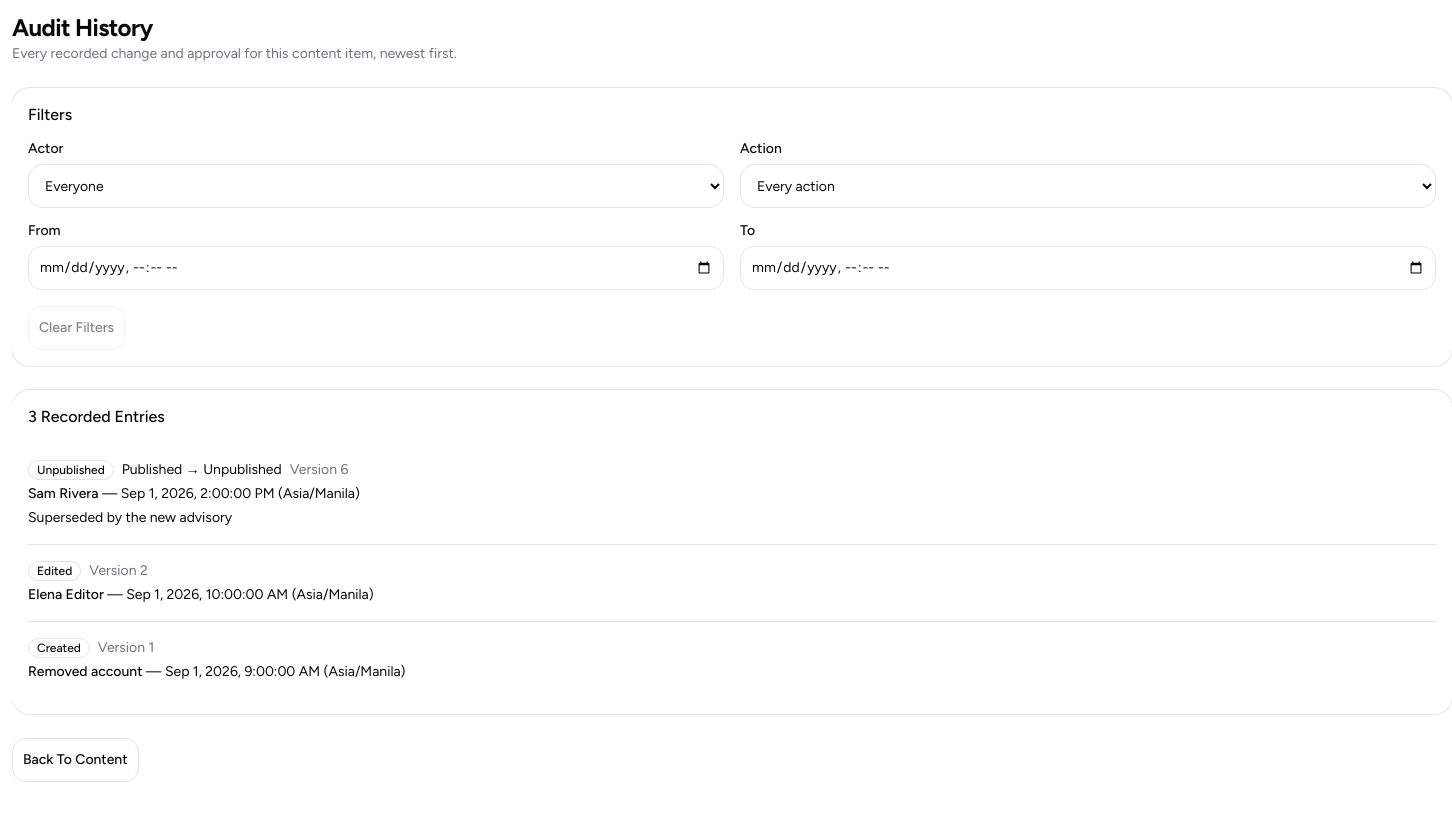
Test: ContentAuditView › refuses an inverted range and does not query with it
This screenshot has width=1452, height=822.
Type "2026-09-05T00:00" into the field labelled "From" at (376,268), box [28,246,724,290]
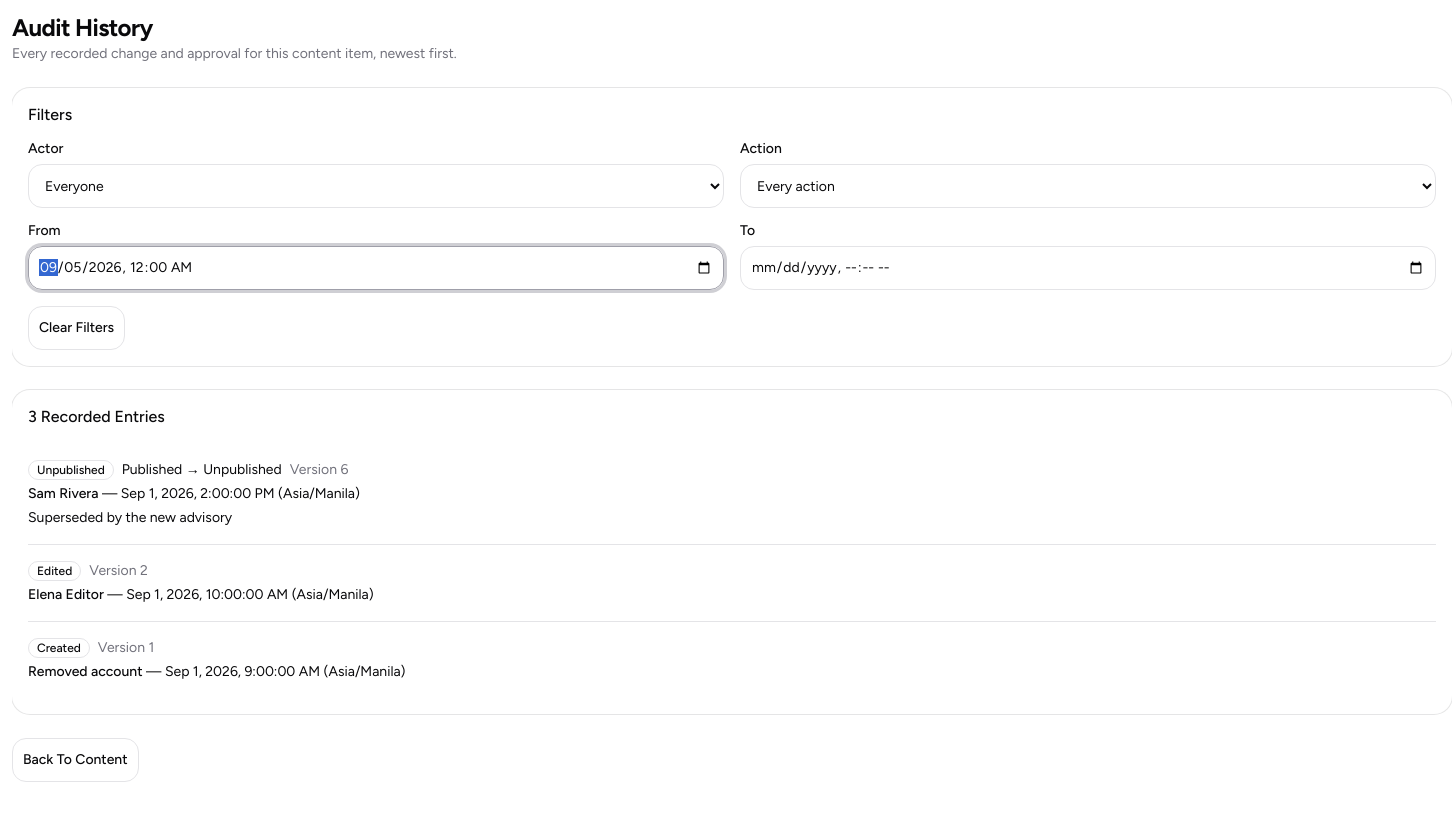
Type "2026-09-01T00:00" into the field labelled "To" at (1088,268), box [740,246,1436,290]
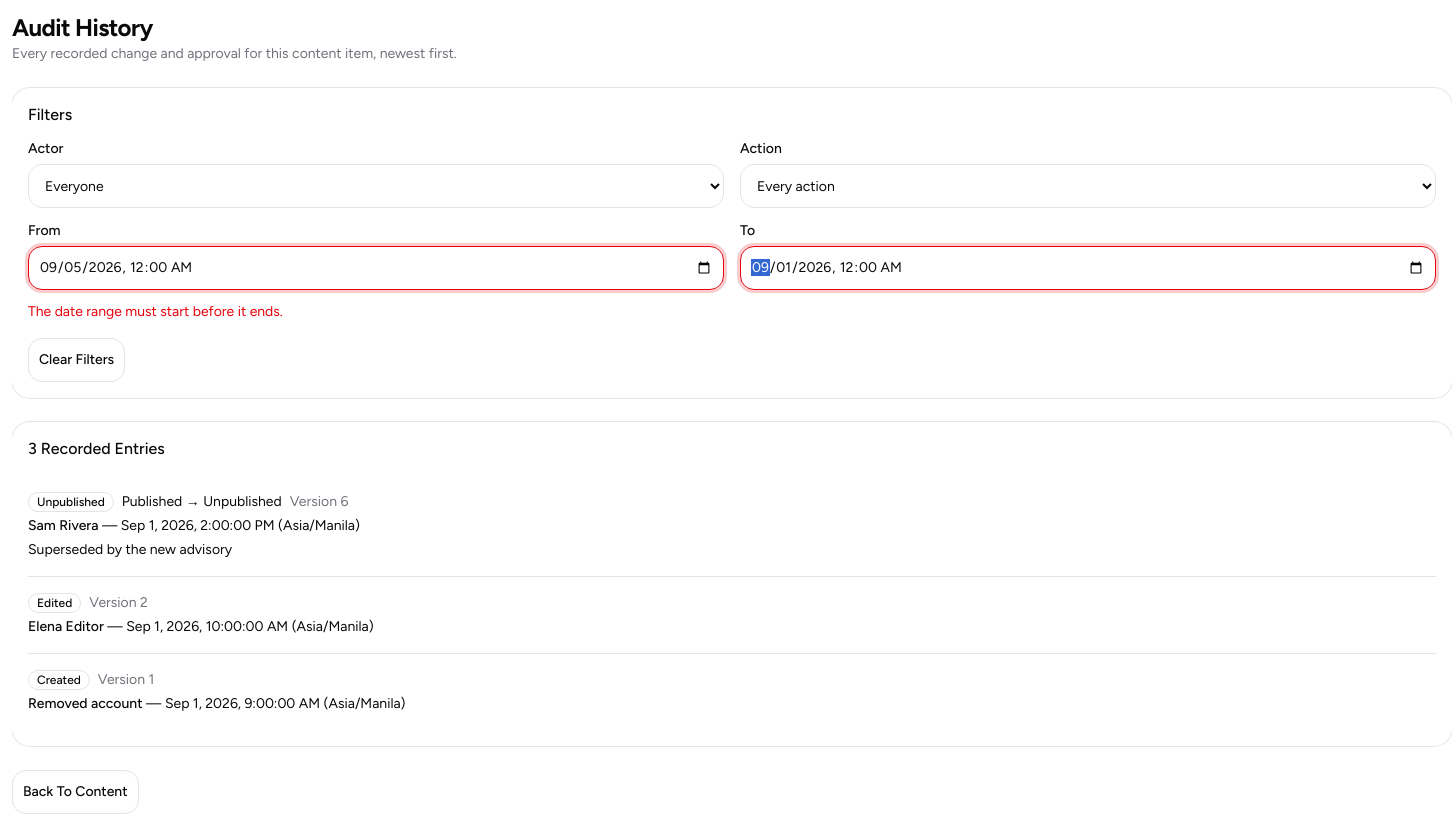
Expected: the message reads "The date range must start before it ends.", [28,303,283,320]
